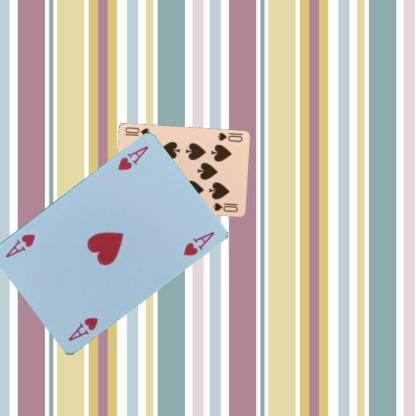10s: (214, 130, 244, 143)
Ah: (115, 143, 150, 172), (65, 315, 100, 343)
